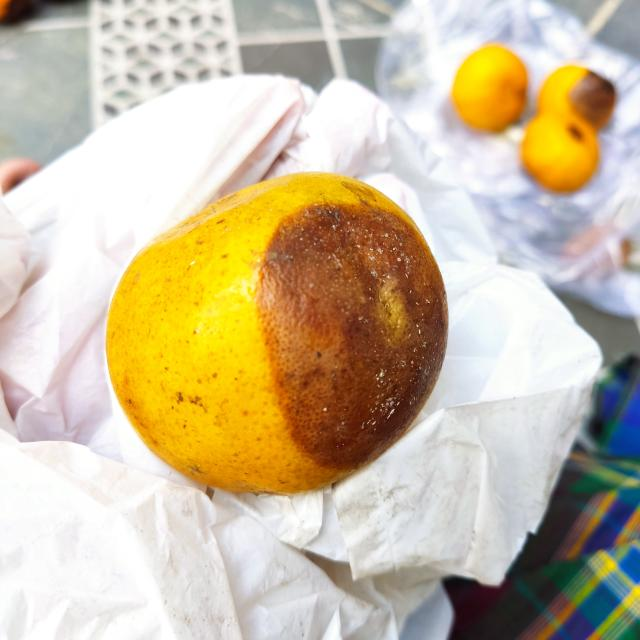orange: (105, 172, 448, 498)
